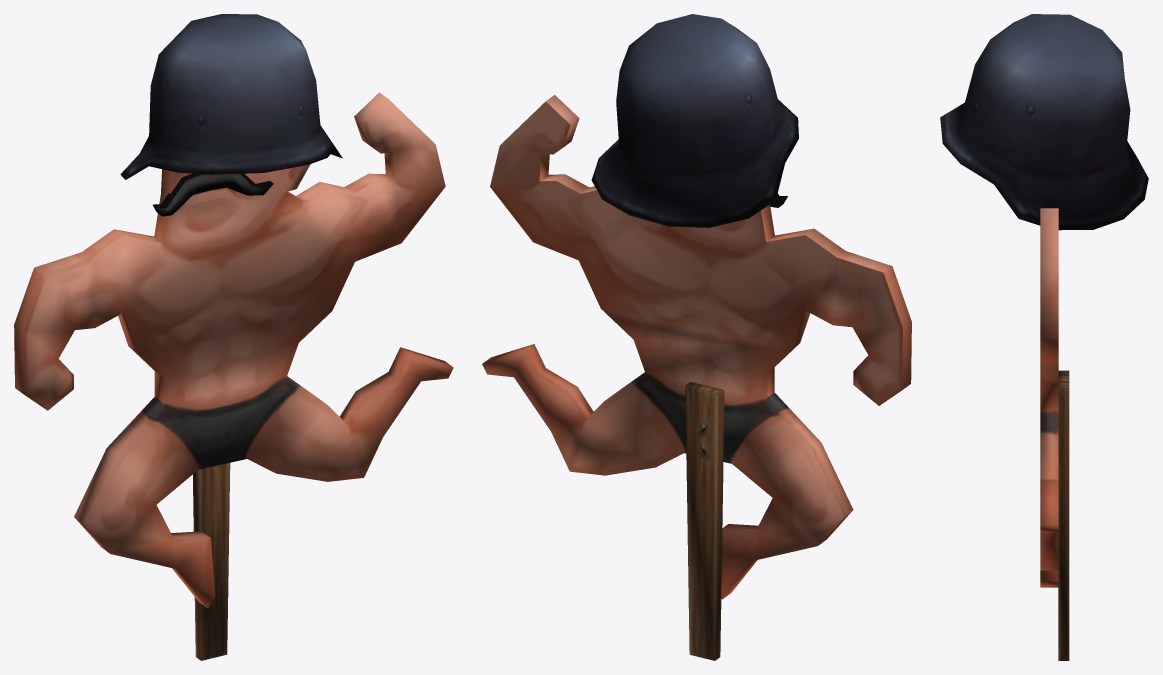
The model's file is bait001.FBX.
3 views of the same model, side by side, from view 1: azimuth 30°, elevation 25°; view 2: azimuth 150°, elevation 25°; view 3: azimuth 270°, elevation 25° (orthographic). The views are drawn at different scales.
Parts seen in each view (by area): view 1: Object001; view 2: Object001; view 3: Object001.
Boxes of the visible parts, x1,y1,x2,y2 form: Object001: (14, 14, 453, 660); Object001: (482, 14, 911, 660); Object001: (940, 14, 1148, 660).
Size of the model in its own units: 108 by 152 by 45.08.
